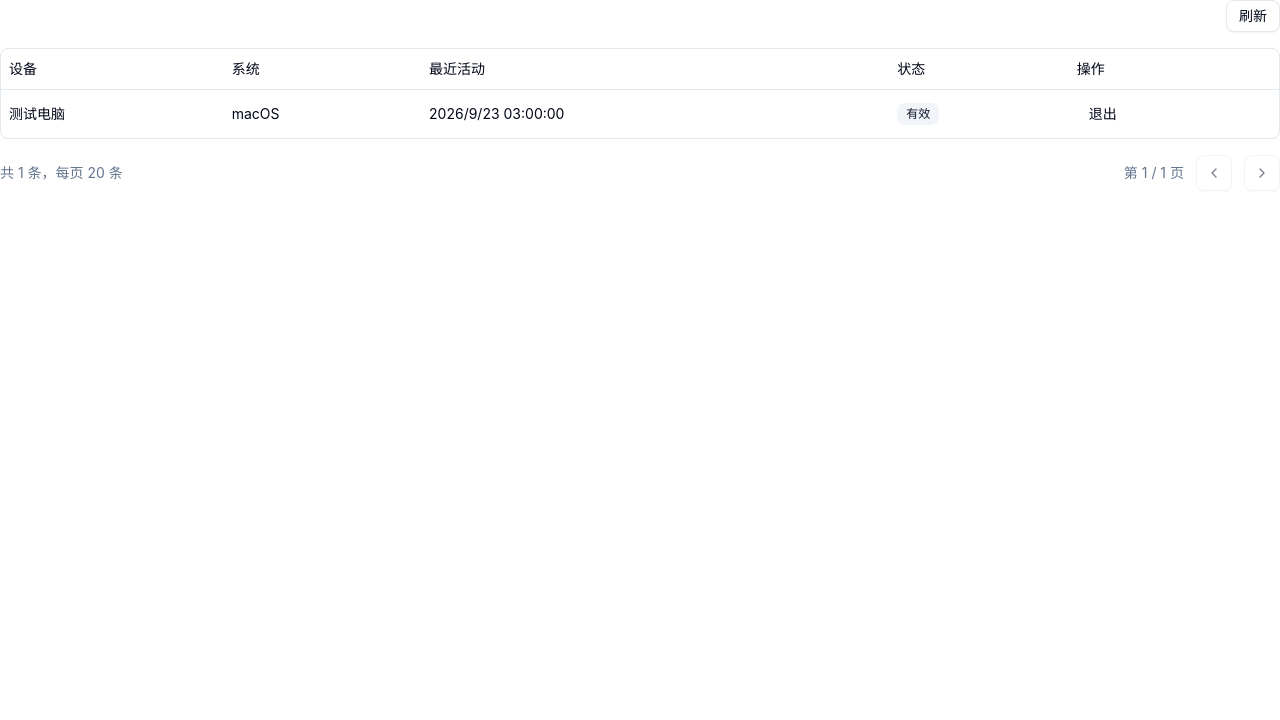
Scenario: 桌面登录设备 › 取消不撤销，确认携带 CSRF，成功更新状态并恢复焦点
The image size is (1280, 720).
Click the button with aria-label "退出设备 测试电脑" at x=1103, y=114, box [1077,98,1129,130]
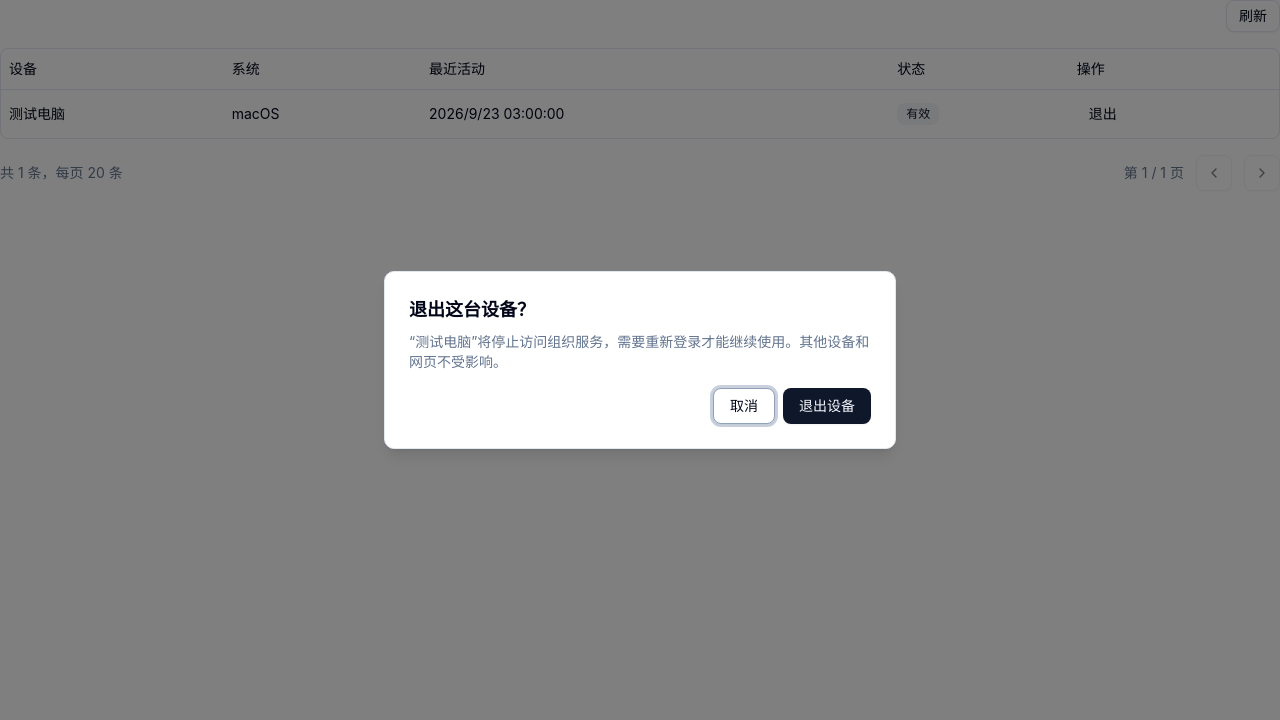
Expected: the dialog "退出这台设备？ “测试电脑”将停止访问组织服务，需要重新登录才能继续使用。其他设备和网页不受影响。 取消 退出设备" is shown, [384,271,896,449]
Click the button "取消" at x=744, y=406, box [713,388,775,424]
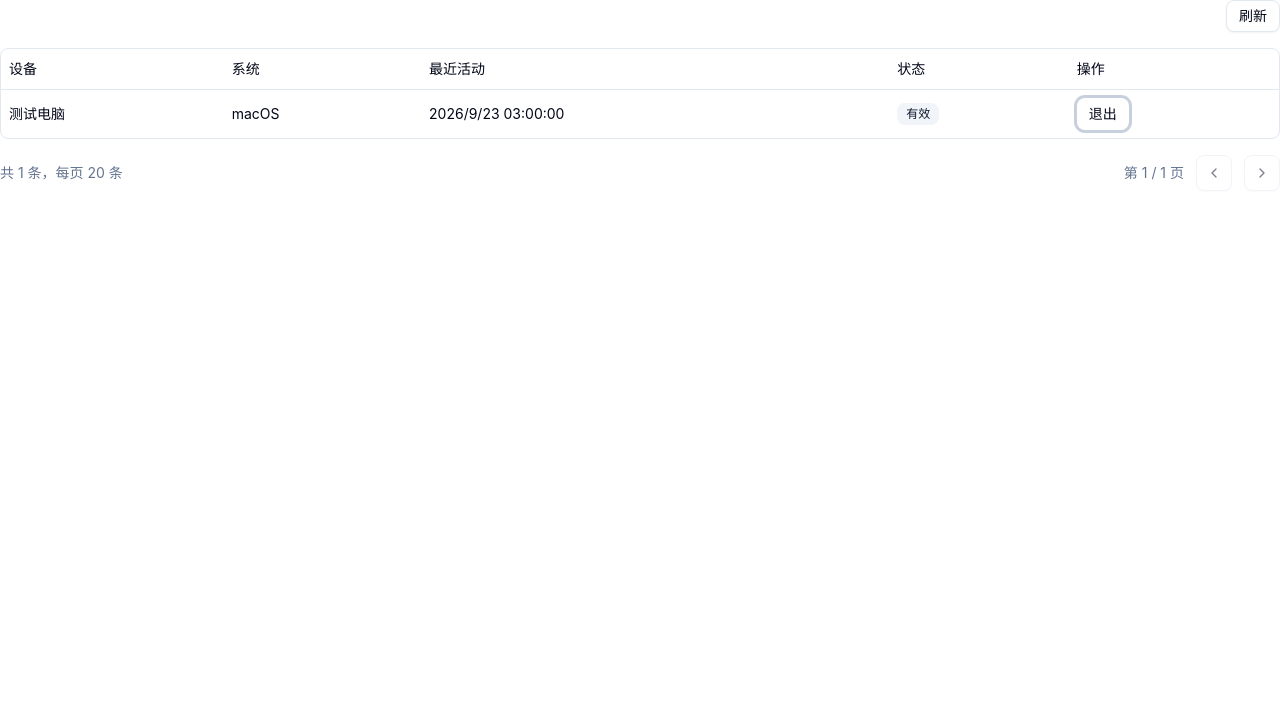
Click the button with aria-label "退出设备 测试电脑" at x=1103, y=114, box [1077,98,1129,130]
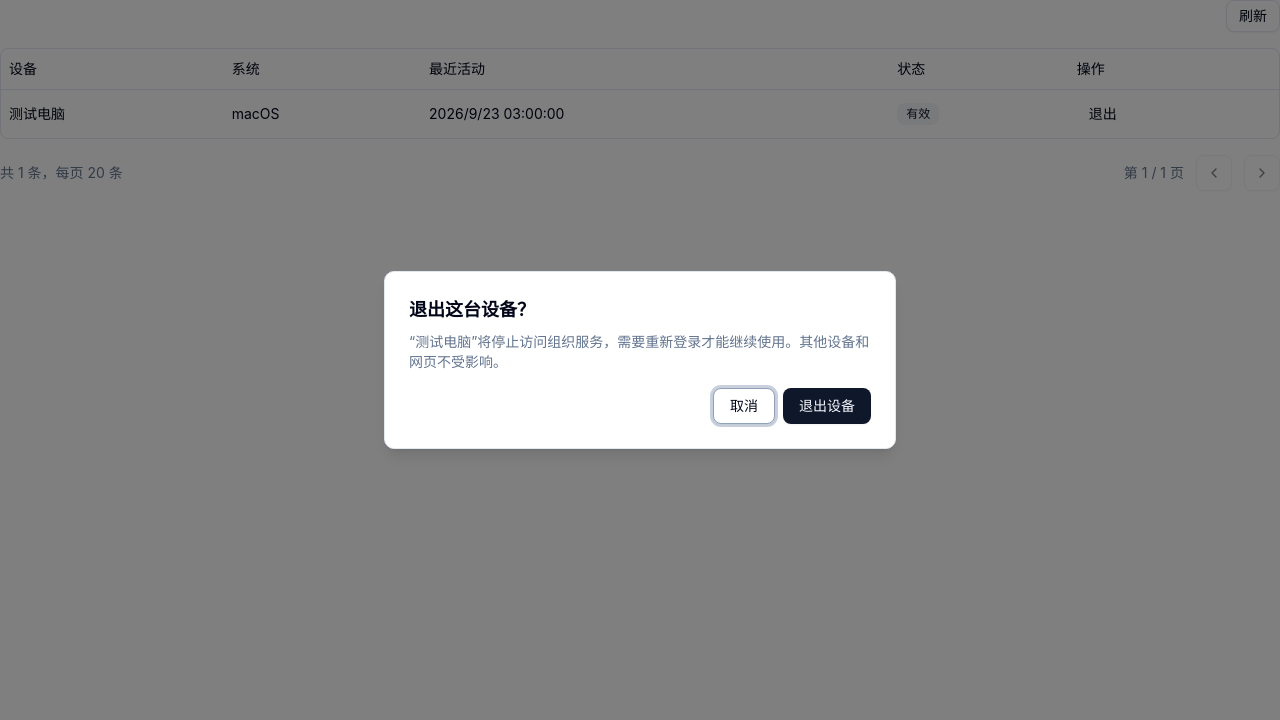
Click the button "退出设备" at x=827, y=406, box [783,388,871,424]
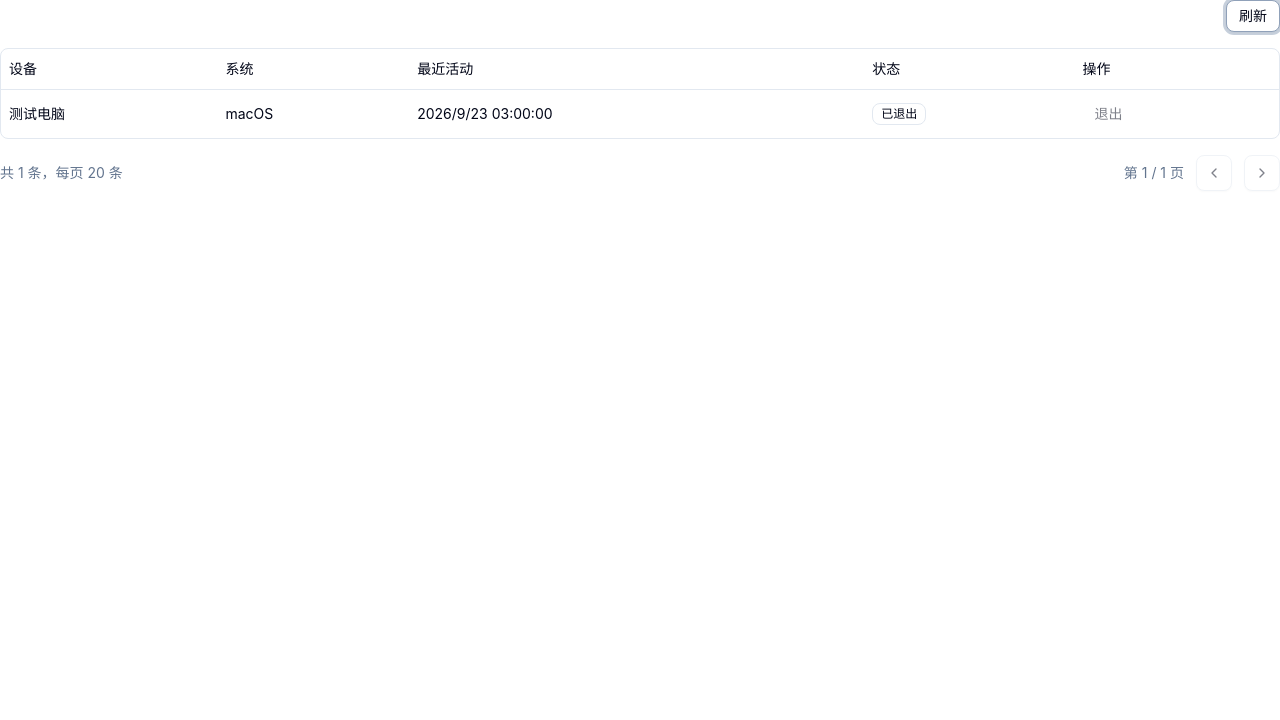
Expected: the text "已退出" is shown, [872,102,926,124]
Expected: the button with aria-label "退出设备 测试电脑" is disabled, [1083,98,1135,130]
